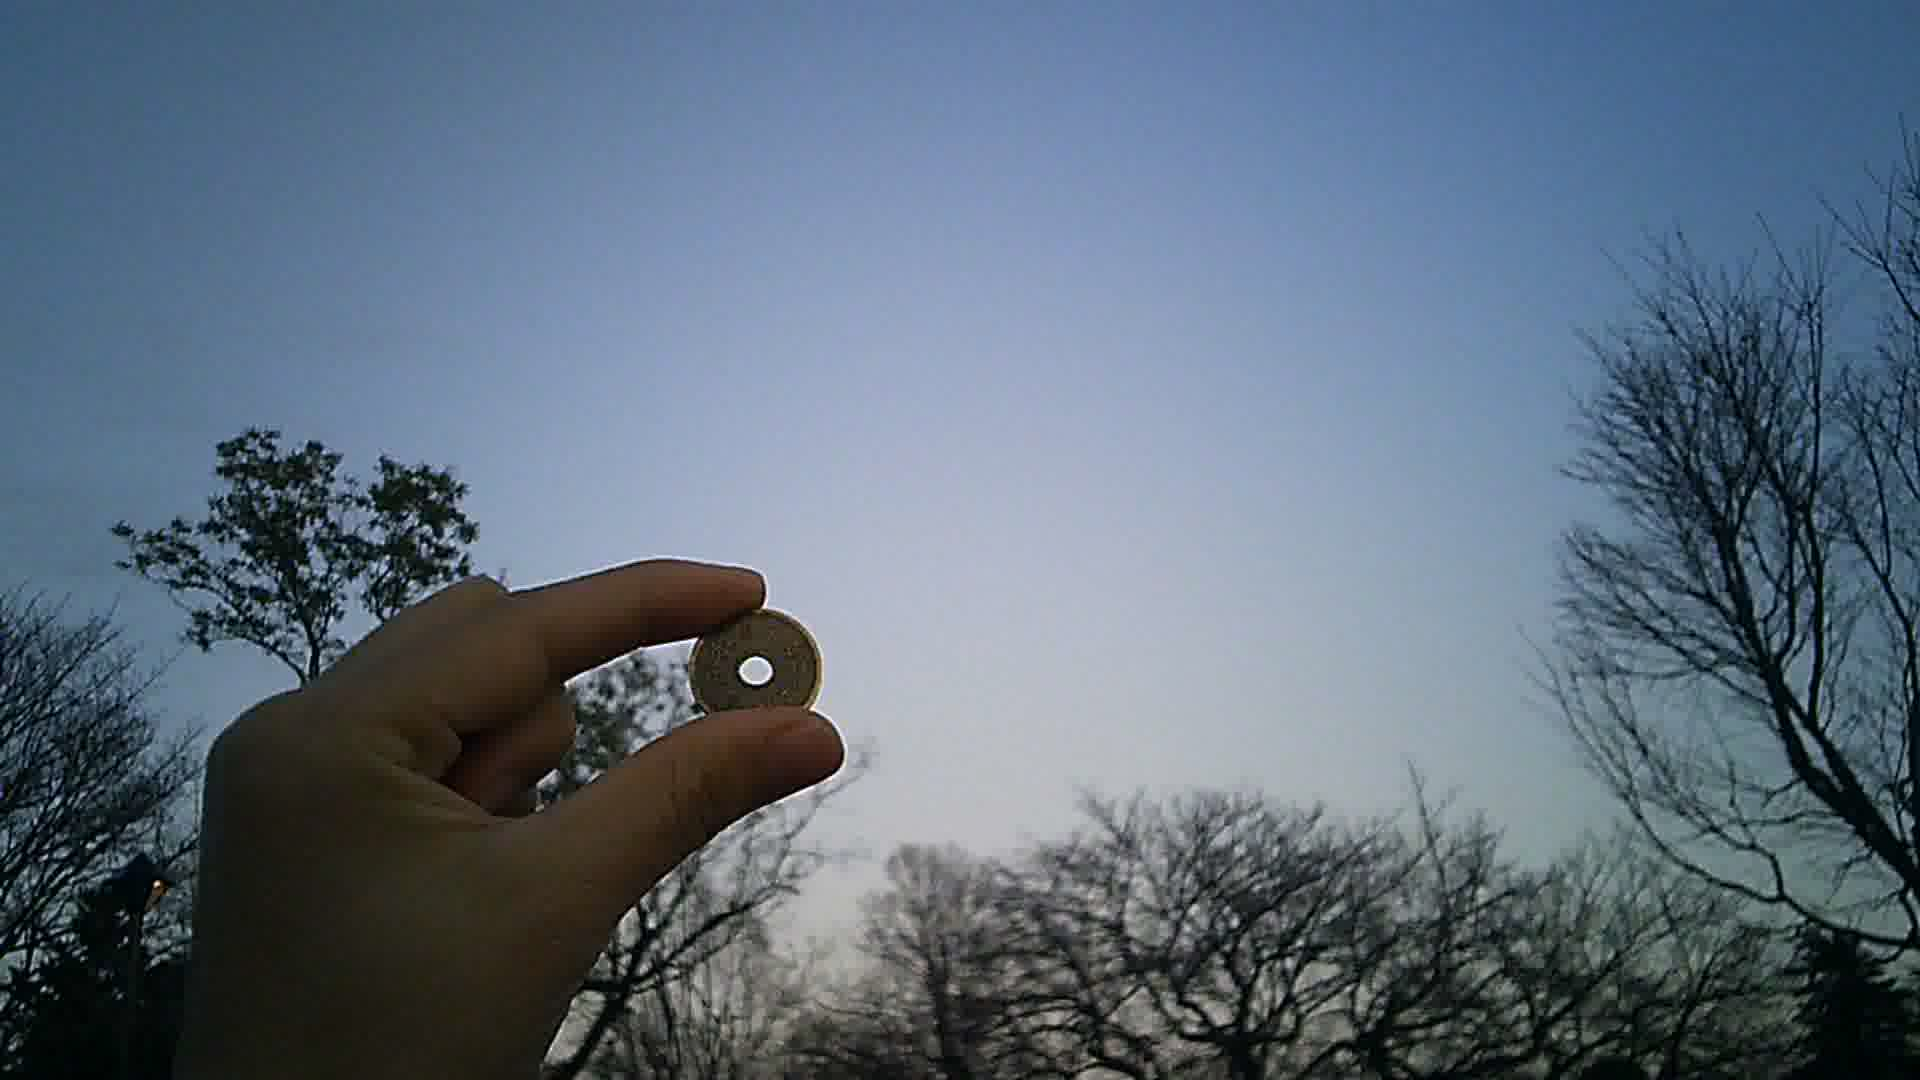5 Yen: (691, 601, 835, 724)
